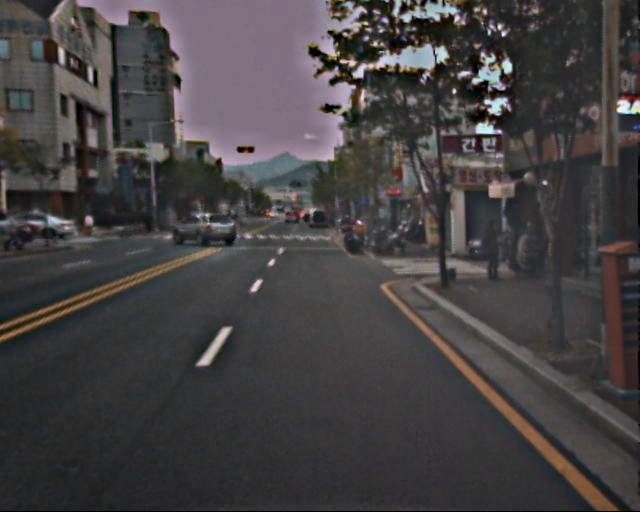person: (480, 217, 506, 280)
